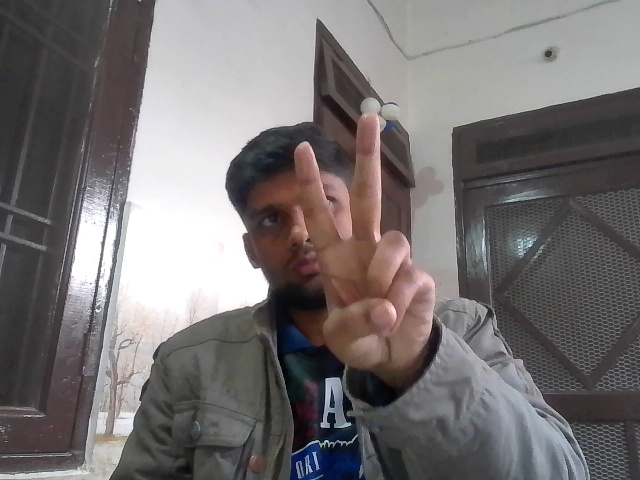Enjoy: (282, 99, 441, 375)
